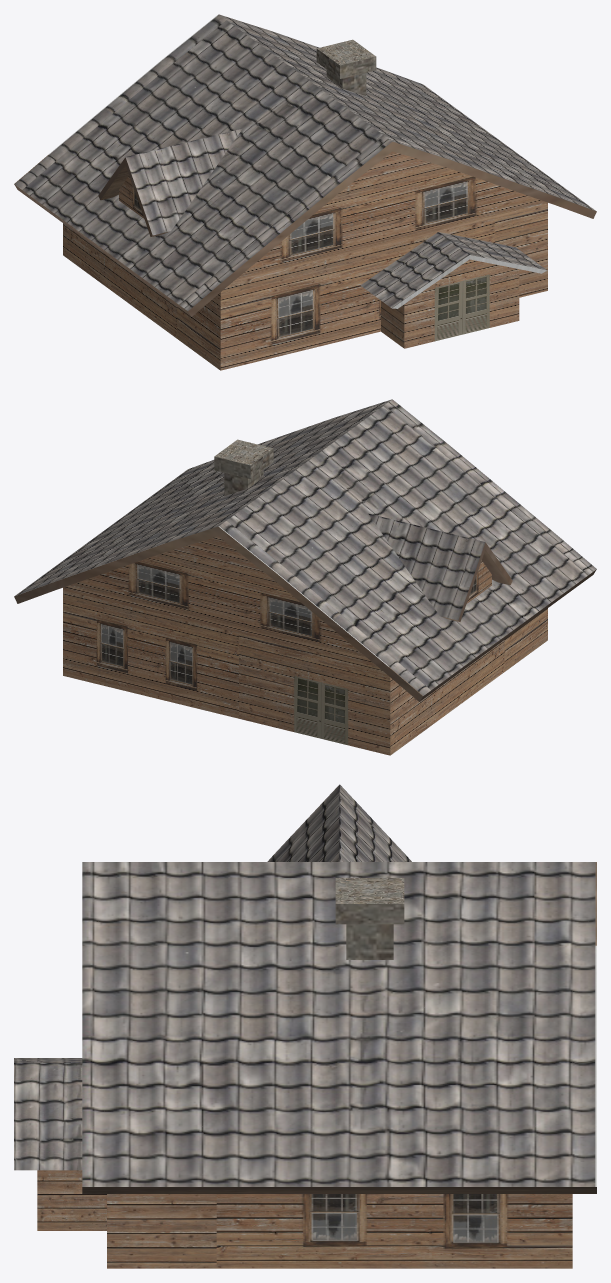
The model's file is sb_wood_house_mj.fbx.
3 views of the same model, one above another, from view 1: azimuth 30°, elevation 25°; view 2: azimuth 150°, elevation 25°; view 3: azimuth 270°, elevation 25° (orthographic). The views are drawn at different scales.
Visible parts, largest first — view 1: sb_wood_house_mj; view 2: sb_wood_house_mj; view 3: sb_wood_house_mj.
Part boxes in pixels (box(x1,y1,x2,y2)): sb_wood_house_mj: box(14, 14, 596, 370); sb_wood_house_mj: box(14, 399, 596, 755); sb_wood_house_mj: box(14, 784, 596, 1268).
Bounding box in the file's own units: 15 × 7.03 × 12.52.
